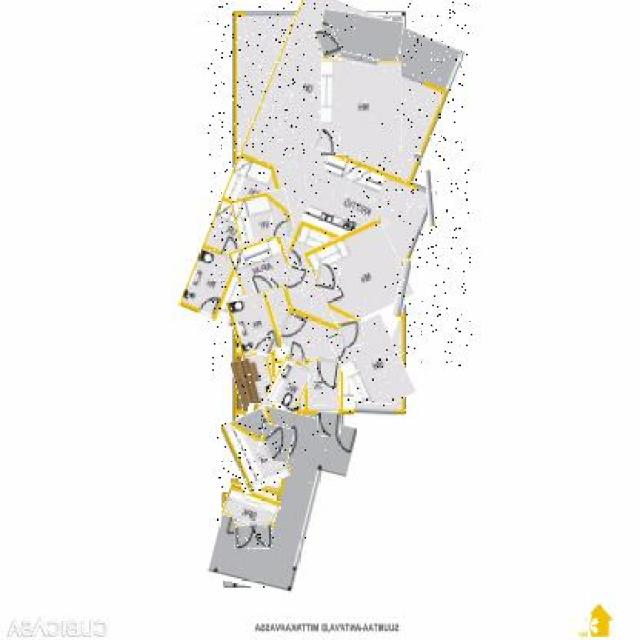door: (258, 424, 292, 462), (234, 520, 274, 549), (338, 318, 364, 348), (317, 26, 338, 59), (315, 264, 340, 290), (317, 411, 340, 437), (315, 359, 337, 386), (315, 130, 340, 152), (286, 266, 306, 292), (252, 272, 274, 294), (271, 215, 291, 237), (254, 335, 274, 357), (290, 342, 304, 362)
window: (396, 260, 410, 318), (426, 169, 437, 226), (356, 405, 396, 417), (338, 54, 378, 64), (257, 408, 269, 415), (286, 408, 299, 414), (414, 154, 421, 160)
zone: (208, 2, 472, 370), (217, 409, 348, 597), (312, 226, 408, 322), (322, 60, 402, 155), (335, 318, 408, 412), (222, 412, 284, 491), (320, 12, 402, 60), (232, 237, 292, 297), (234, 190, 292, 242), (231, 294, 278, 355), (234, 356, 277, 410), (269, 358, 311, 409), (223, 489, 279, 526), (309, 363, 340, 406)
